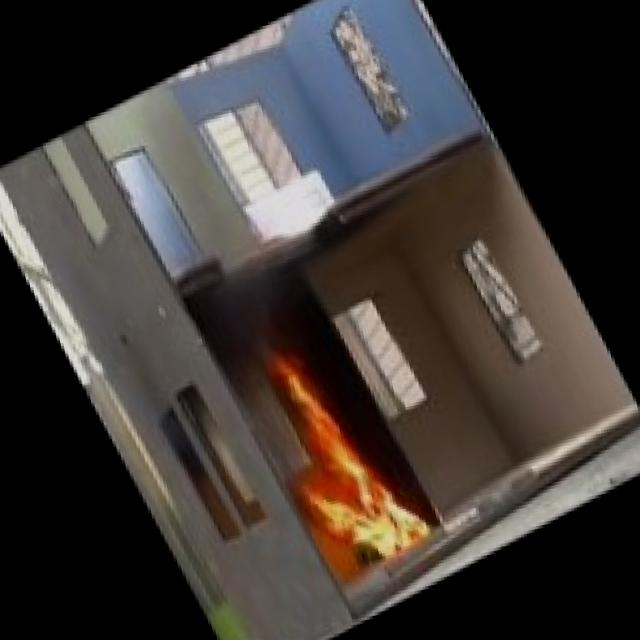fire: (230, 329, 434, 594)
